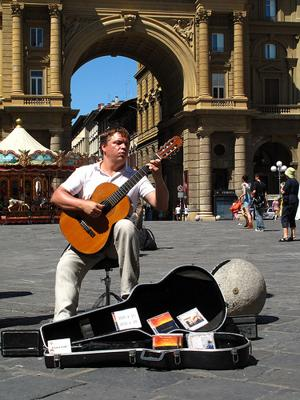person: (50, 125, 170, 326)
